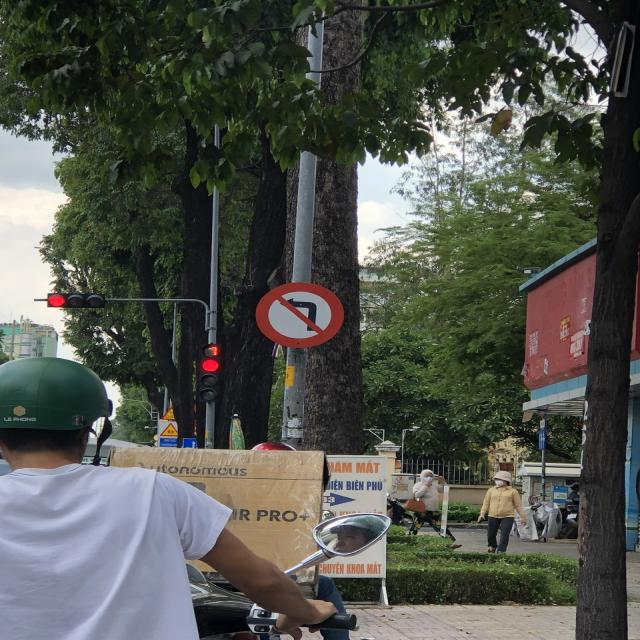Bien bao cam re trai: (254, 275, 346, 348)
